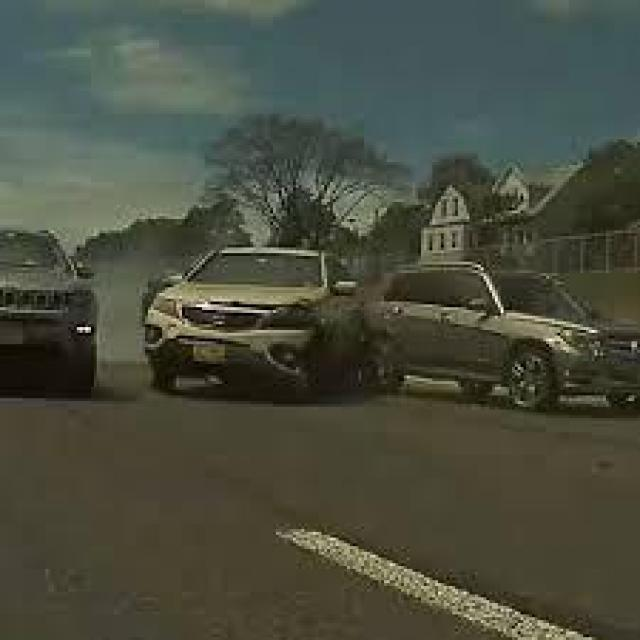multiple_accident: (193, 220, 451, 420)
